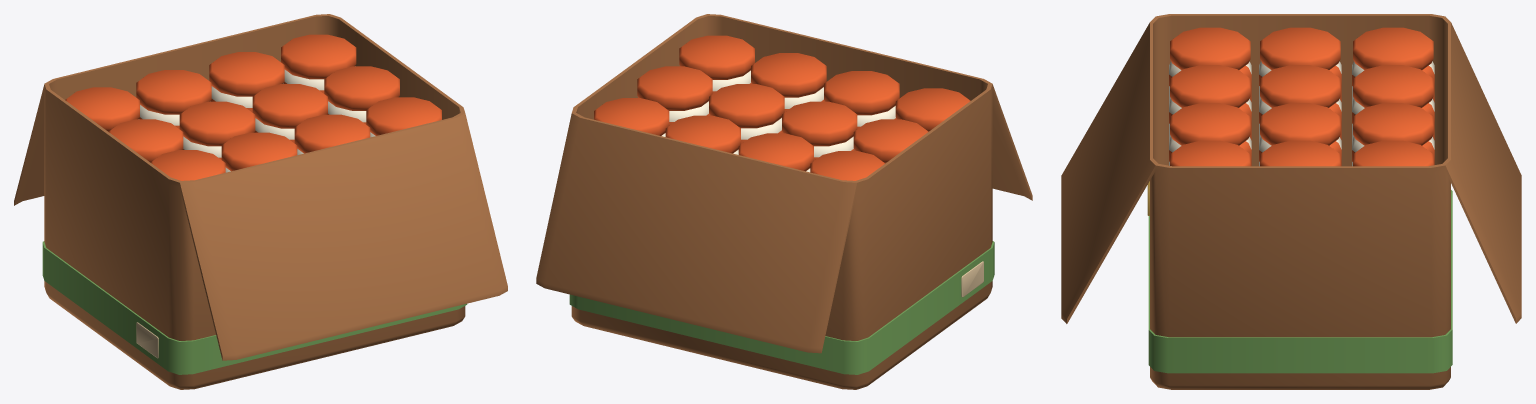
The model's file is boxFilledJam.fbx.
3 views of the same model, side by side, from view 1: azimuth 30°, elevation 25°; view 2: azimuth 150°, elevation 25°; view 3: azimuth 270°, elevation 25° (orthographic). The views are drawn at different scales.
Visible parts, largest first — view 1: Plane.013, Plane.014, jam.005, jam.002, jam.008, jam.004, jam.007, jam.001, jam.003, jam.006, jam.011, jam (+3 smaller); view 2: Plane.013, Plane.014, jam.004, jam.001, jam.007, jam.003, jam, jam.006, jam.010, jam.009, jam.005, jam.008 (+3 smaller); view 3: Plane.013, Plane.014, jam.006, jam.007, jam.008, jam.010, jam.011, jam.009, jam.003, jam.004, jam.005, jam.001 (+2 smaller).
Boxes of the visible parts, bbox=[...] form: Plane.013: bbox=[14, 14, 507, 389]; Plane.014: bbox=[42, 241, 467, 374]; jam.005: bbox=[209, 52, 284, 112]; jam.002: bbox=[281, 34, 356, 93]; jam.008: bbox=[136, 70, 211, 128]; jam.004: bbox=[252, 84, 327, 142]; jam.007: bbox=[179, 101, 255, 159]; jam.001: bbox=[324, 66, 399, 124]; jam.003: bbox=[294, 114, 370, 154]; jam.006: bbox=[221, 132, 297, 172]; jam.011: bbox=[65, 87, 139, 131]; jam: bbox=[366, 97, 441, 137]; Plane.013: bbox=[536, 14, 1032, 389]; Plane.014: bbox=[569, 241, 994, 374]; jam.004: bbox=[709, 84, 784, 144]; jam.001: bbox=[637, 66, 712, 125]; jam.007: bbox=[782, 101, 857, 160]; jam.003: bbox=[751, 53, 826, 111]; jam: bbox=[679, 35, 754, 93]; jam.006: bbox=[824, 71, 899, 128]; jam.010: bbox=[853, 119, 928, 163]; jam.009: bbox=[895, 88, 970, 131]; jam.005: bbox=[665, 115, 740, 154]; jam.008: bbox=[738, 133, 813, 172]; Plane.013: bbox=[1061, 14, 1521, 389]; Plane.014: bbox=[1148, 190, 1452, 373]; jam.006: bbox=[1169, 65, 1251, 140]; jam.007: bbox=[1259, 65, 1341, 140]; jam.008: bbox=[1352, 65, 1434, 140]; jam.010: bbox=[1259, 27, 1341, 102]; jam.011: bbox=[1352, 27, 1434, 102]; jam.009: bbox=[1169, 27, 1251, 101]; jam.003: bbox=[1169, 103, 1251, 166]; jam.004: bbox=[1259, 103, 1341, 166]; jam.005: bbox=[1352, 103, 1434, 166]; jam.001: bbox=[1260, 140, 1340, 166].
Size of the model in its own units: 171 by 115 by 213.
